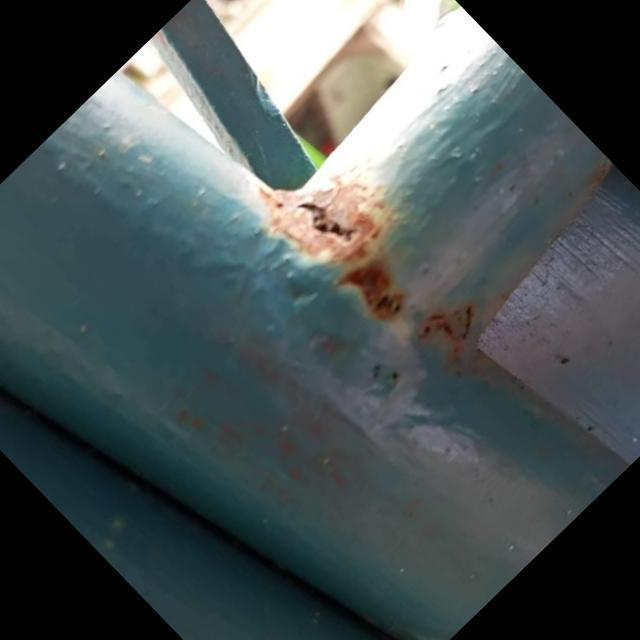defect: (295, 200, 369, 250)
